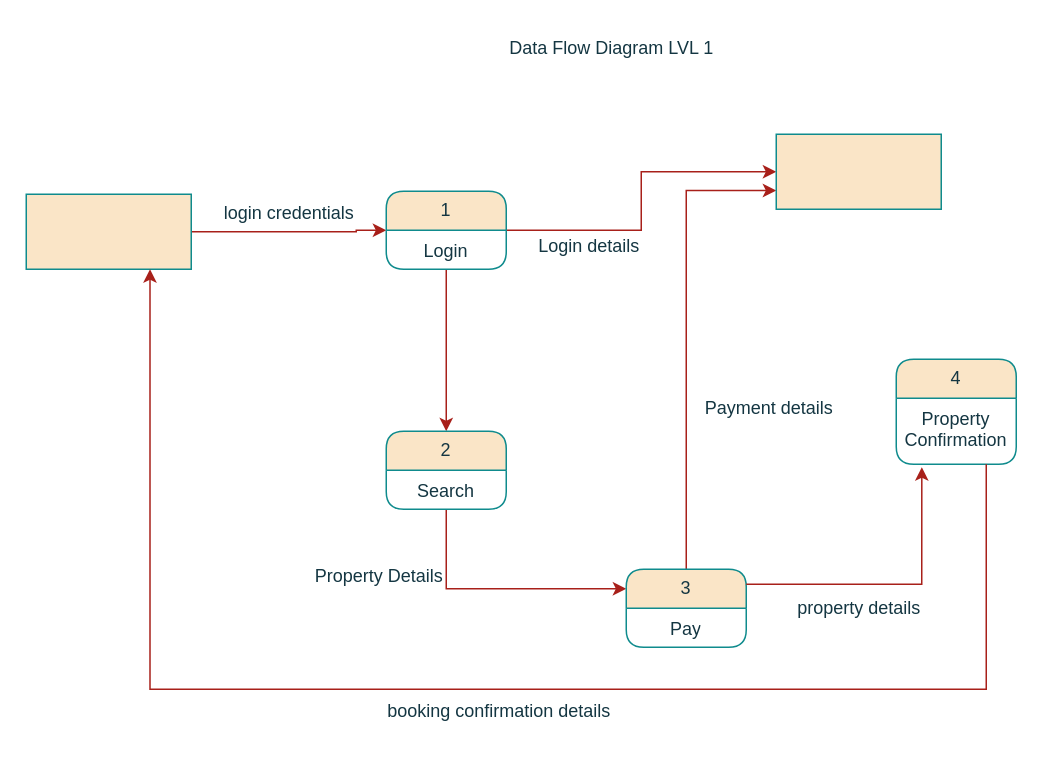
This 1043x759 diagram has some shape labels left out. The shapes that lost their labels are listed below. From the top down, each one's centre as x and y in pixels, then its label:
At (858,171): "D1: datastore".
At (108,231): "User".
